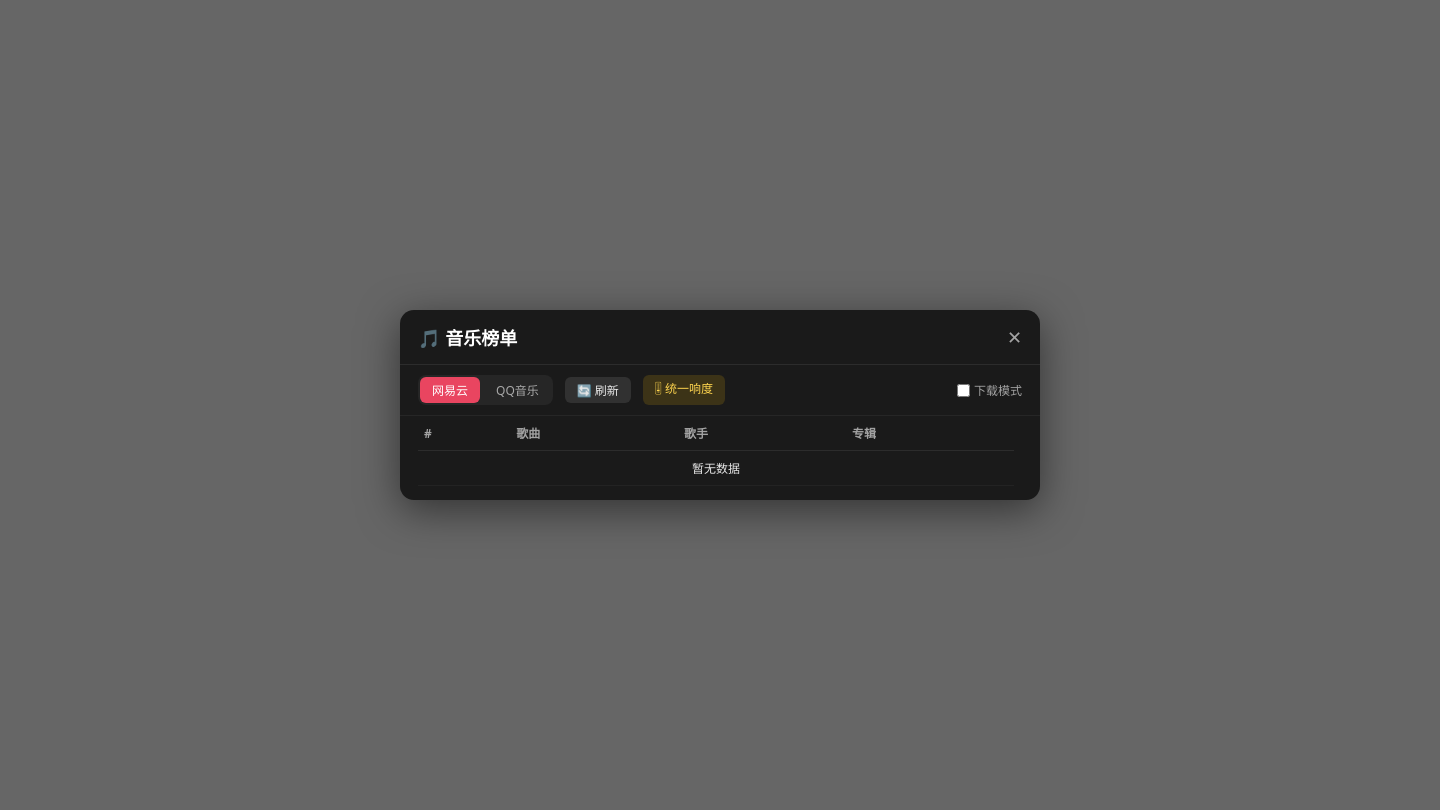
Charts.vue › 下载弹窗入队成功后队列显示「完成」状态
Click the checkbox labelled "下载模式": (964, 390) [957,384,970,396]
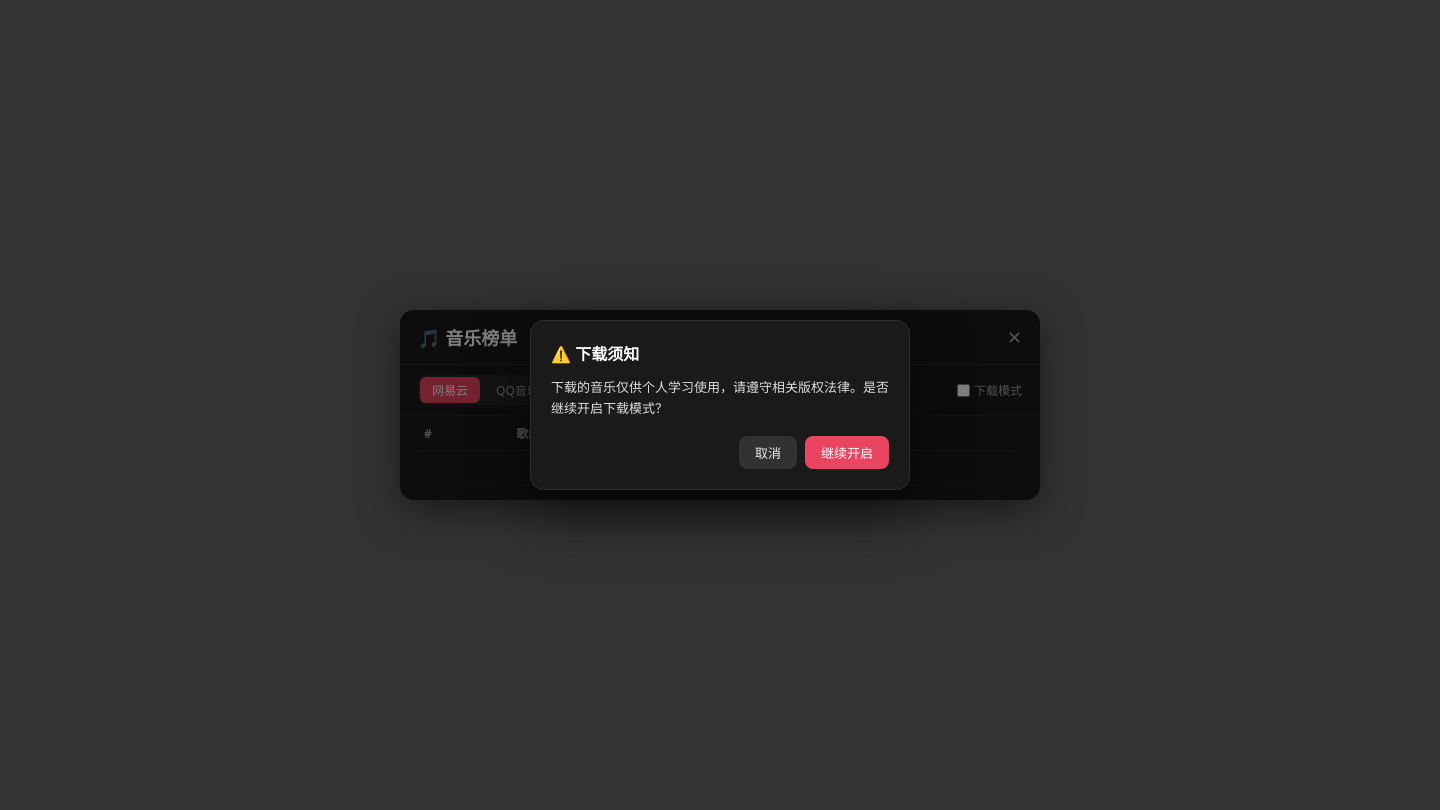
Check: the dialog with class "charts-disclaimer" is shown, box [530,320,910,490]
Click the button with class "charts-disclaimer__btn--confirm": (847, 453) [805,436,889,469]
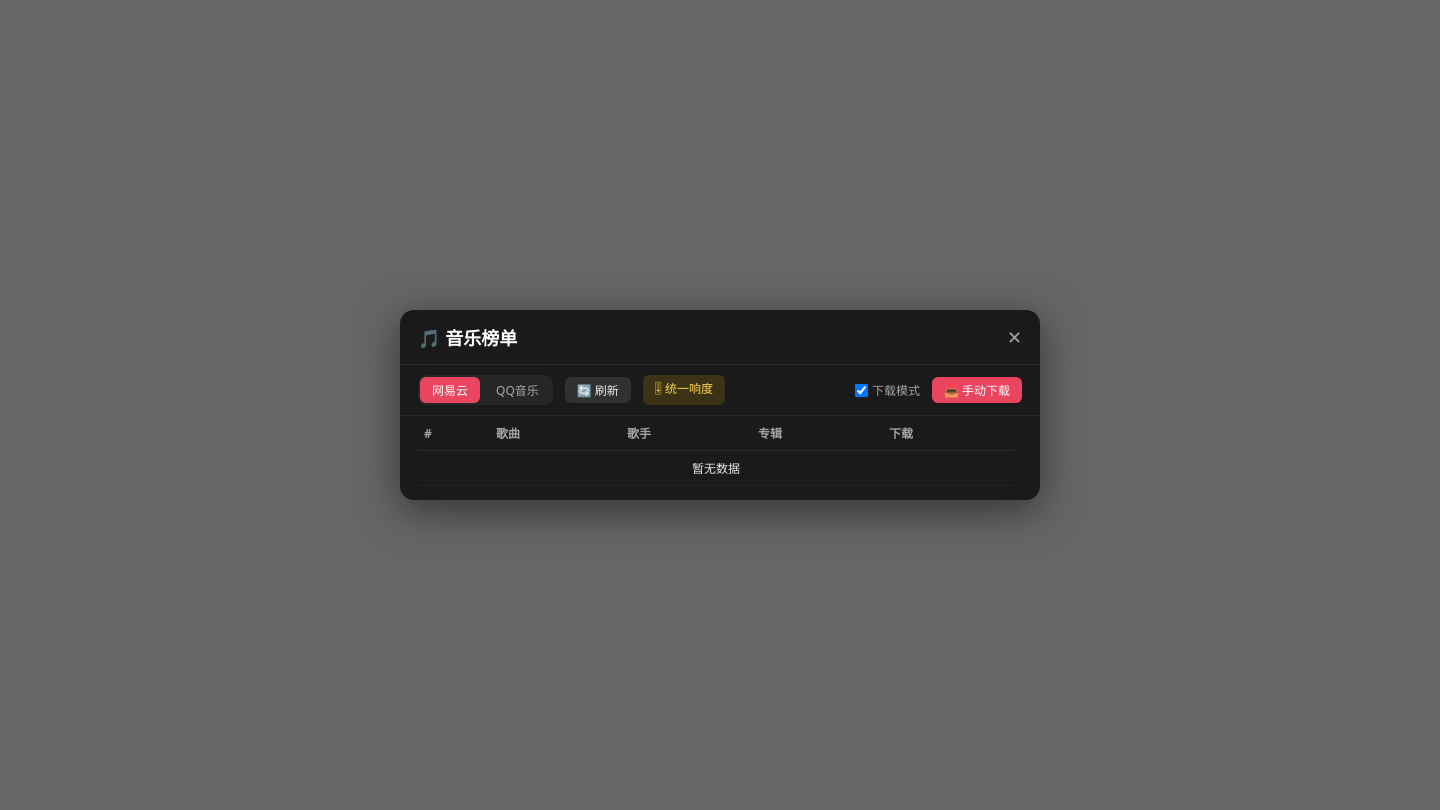
Click the button with class "charts-manual-download-btn": (977, 390) [932,377,1022,403]
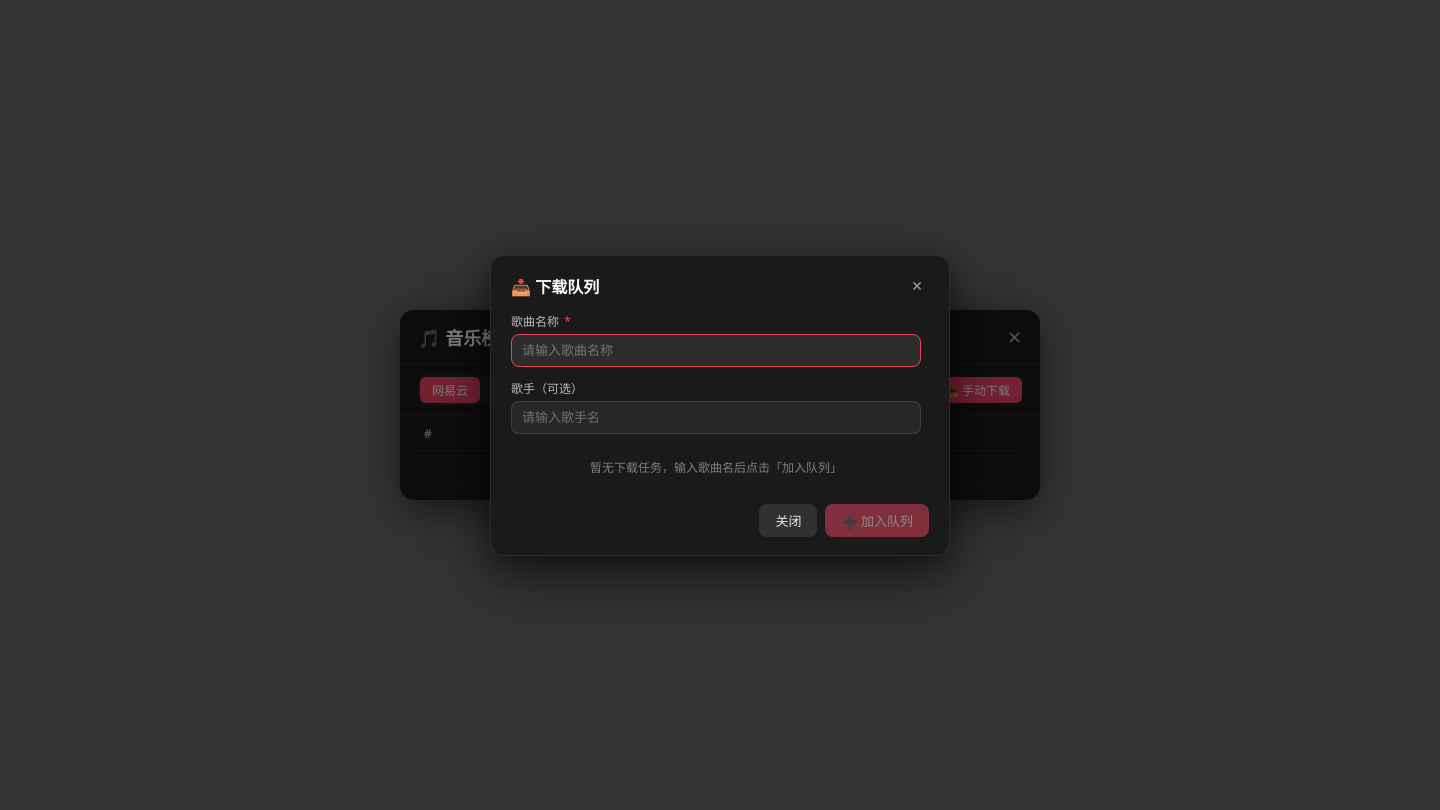
In the field with class "download-dialog__input" showing "歌曲名称 *": (716, 350) [511,334,921,366], type "我的歌"
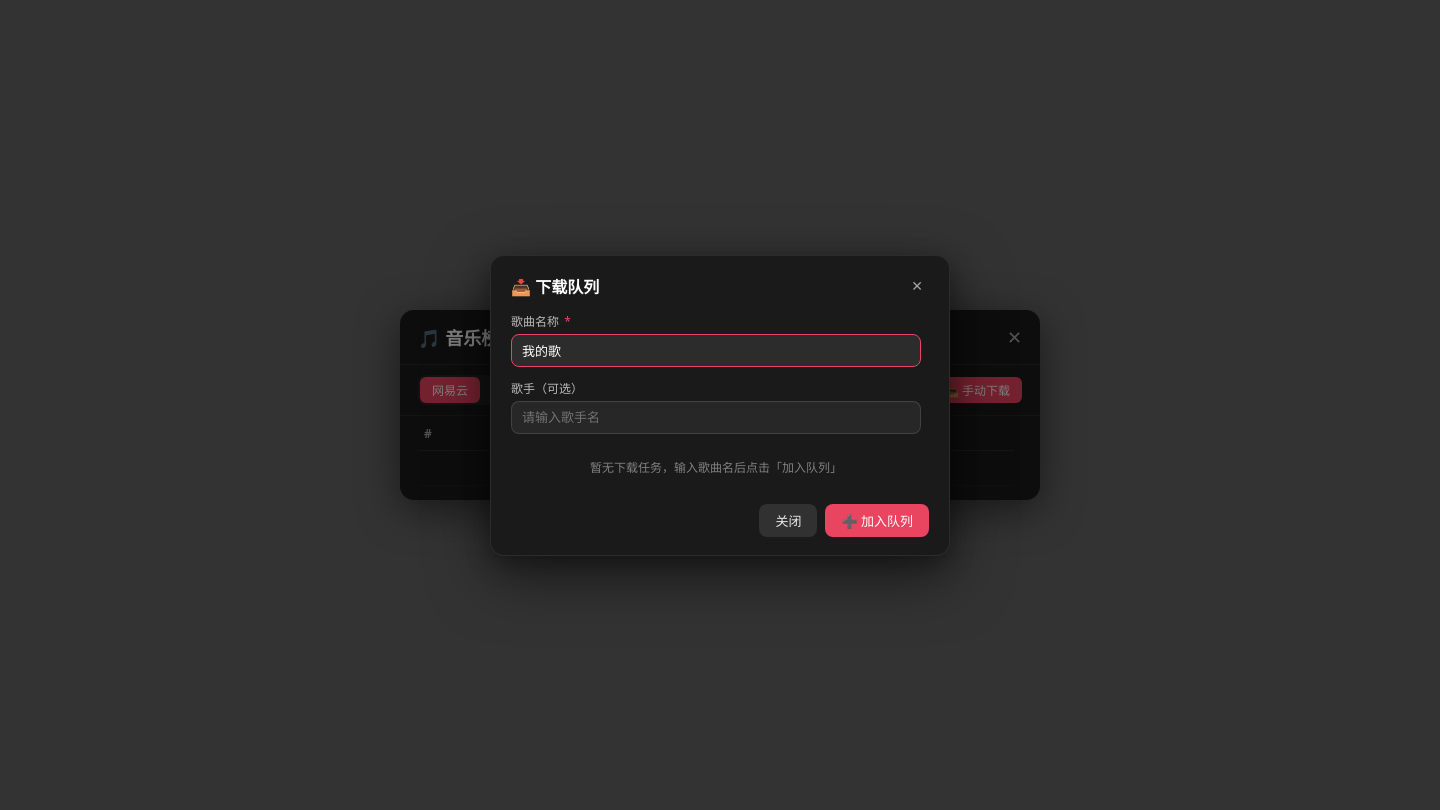
Click the button with class "download-dialog__btn--download": (877, 520) [825,504,929,536]
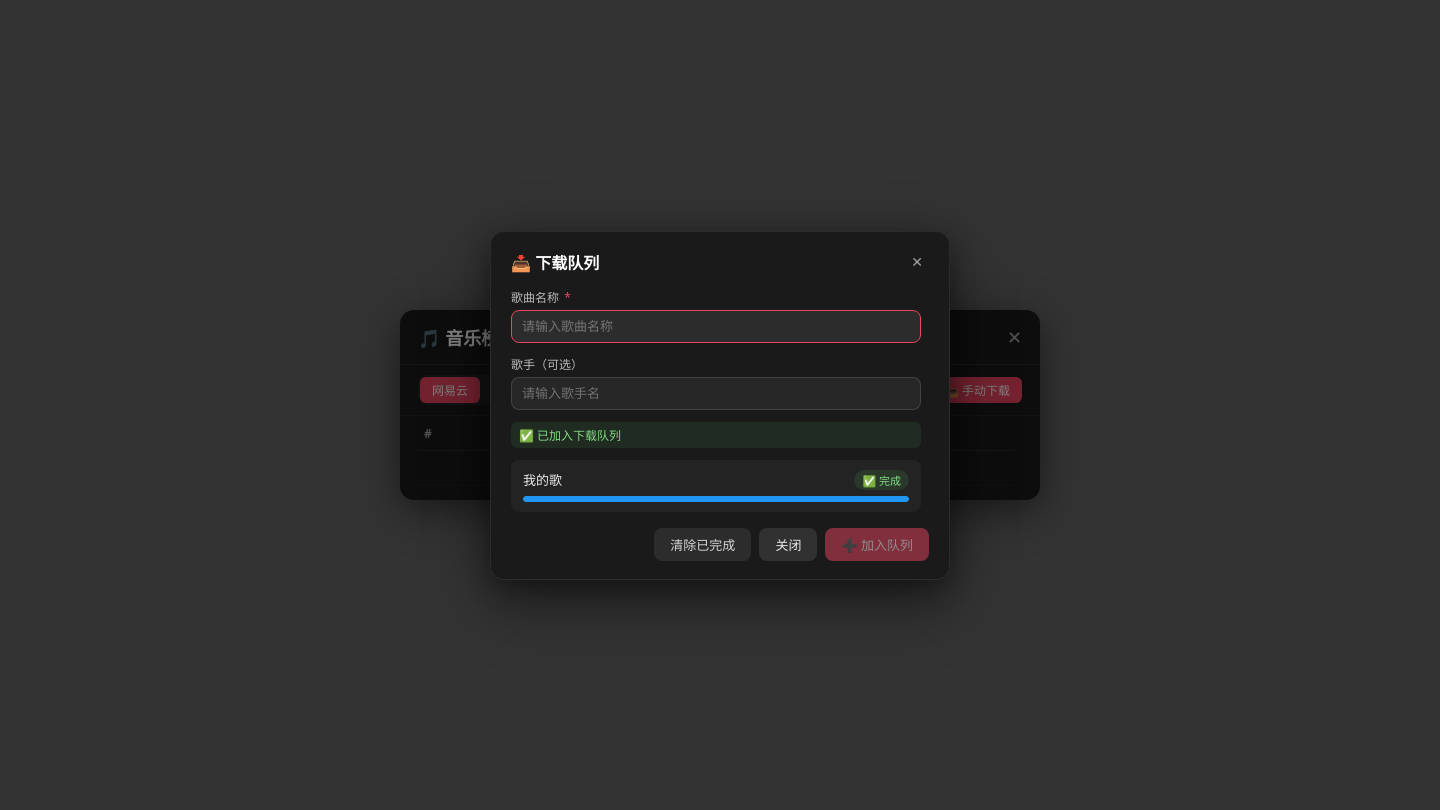
Check: the text "✅ 完成" is shown, box [854,470,909,490]
Check: the text with class "download-queue__status" shows "完成", box [862,472,901,488]
